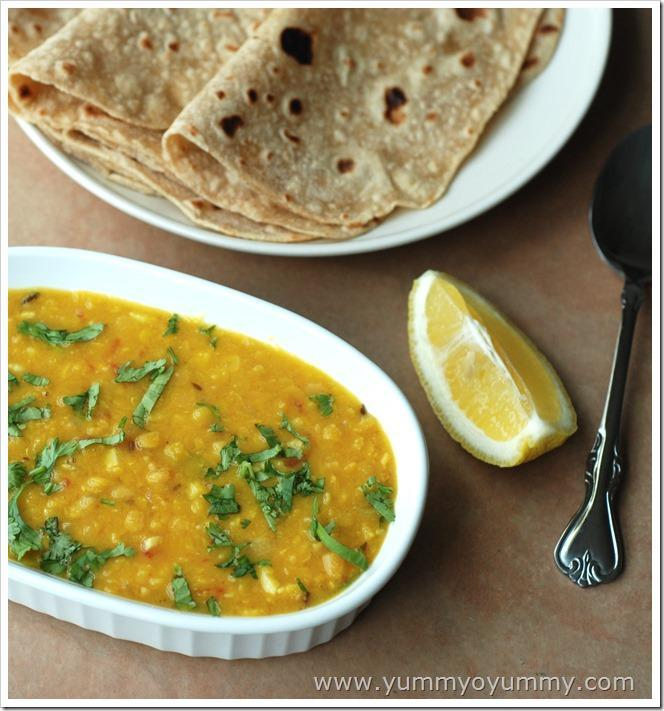dal: (9, 277, 399, 616)
roti: (9, 7, 575, 242)
